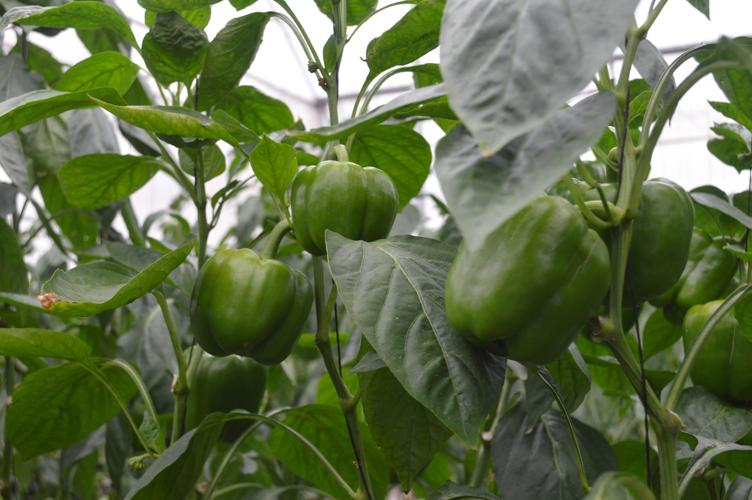BellPepper: (443, 197, 605, 365), (187, 247, 316, 366), (592, 179, 689, 300), (291, 162, 401, 251), (675, 298, 750, 405), (182, 354, 267, 436), (664, 229, 735, 316)
